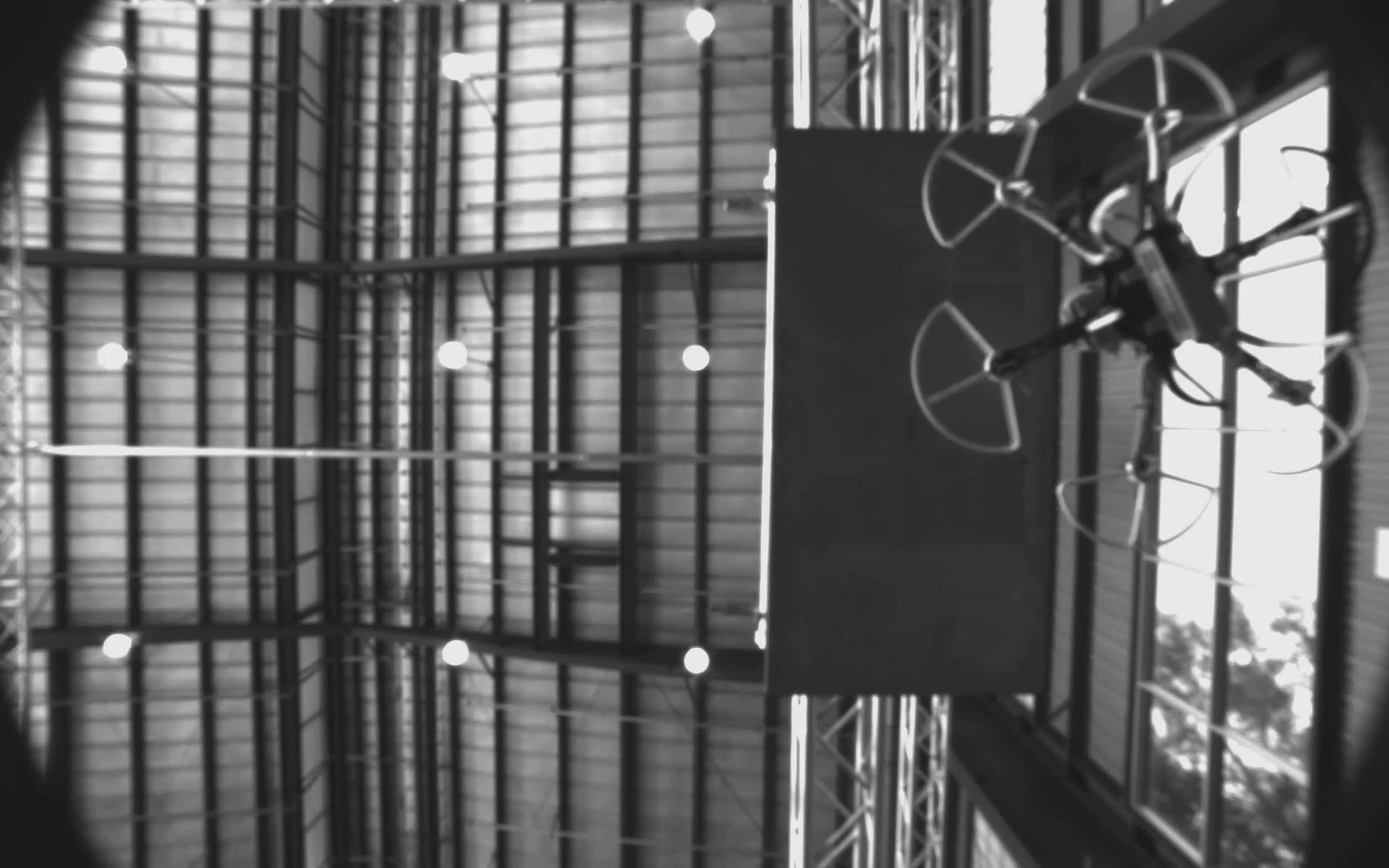drone: (904, 33, 1383, 558)
